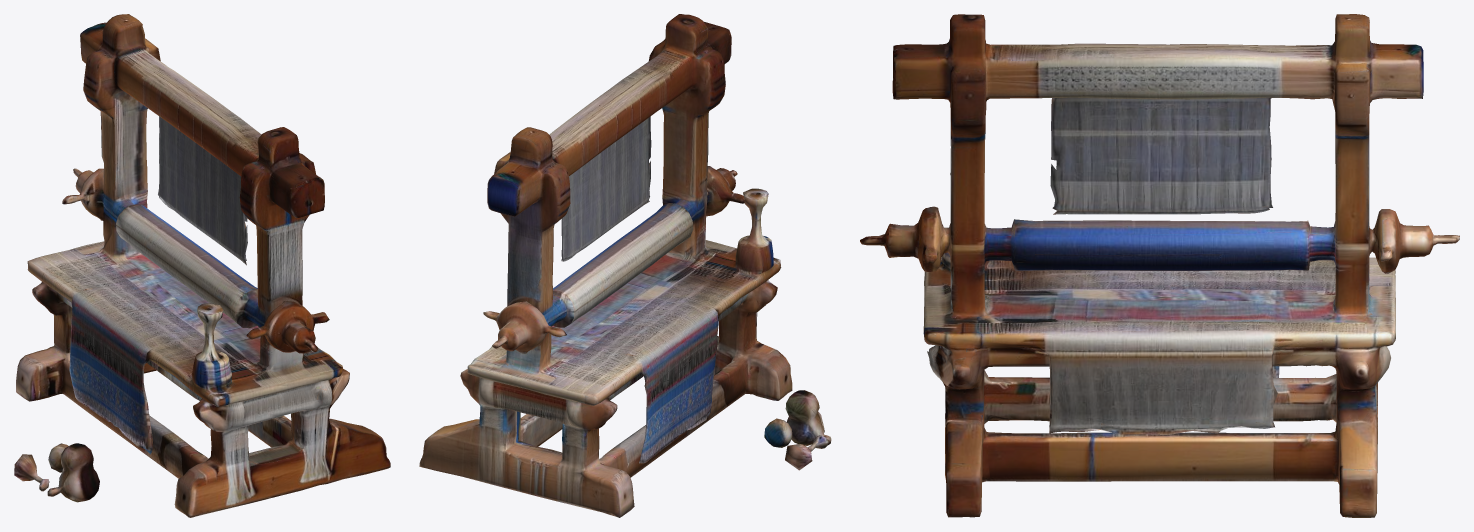
File: loom.glb
3 renders of one model, left to right at view 1: azimuth 30°, elevation 25°; view 2: azimuth 150°, elevation 25°; view 3: azimuth 270°, elevation 25°, orthographic. The views are drawn at different scales.
Bounding box in the file's own units: 1.43 × 1.63 × 2.
Materials: 1 (1 with a texture image).
